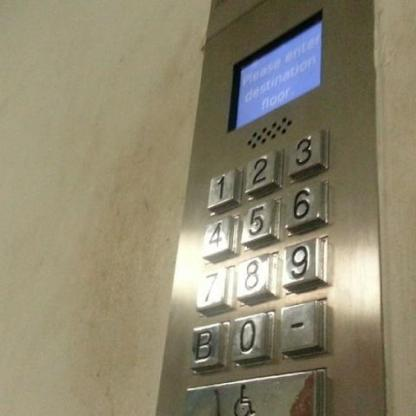-: (278, 300, 328, 360)
0: (231, 309, 274, 366)
1: (205, 166, 241, 214)
2: (244, 148, 282, 200)
3: (286, 128, 328, 184)
4: (201, 215, 238, 264)
5: (239, 199, 280, 250)
6: (284, 181, 330, 236)
7: (196, 264, 236, 315)
8: (235, 253, 282, 304)
9: (280, 234, 329, 294)
B: (188, 322, 229, 374)
CH: (216, 379, 266, 415)
led: (222, 4, 326, 131)
